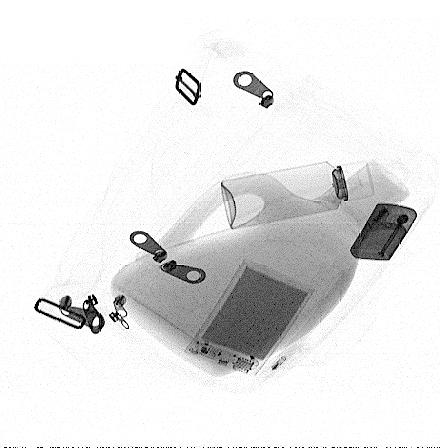Lighter: (352, 203, 418, 261)
Powerbank: (184, 258, 315, 380)
Sprayer: (221, 162, 374, 229)
